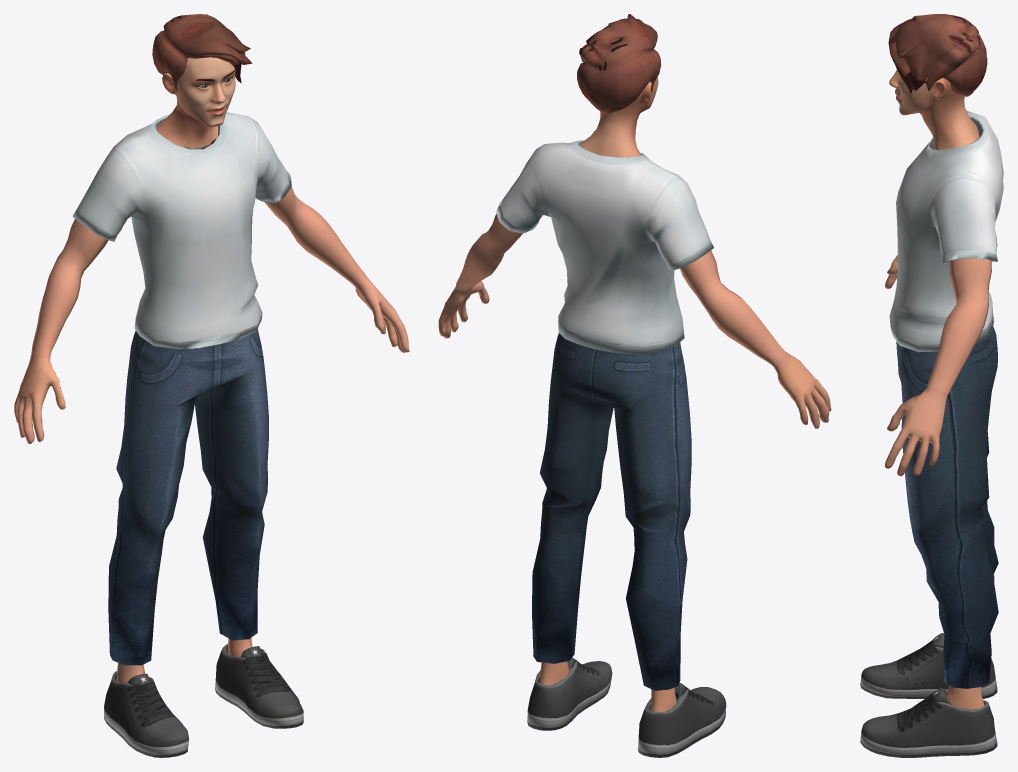
File: Skinny_Character_Base.glb
The picture shows the model from 3 angles, left to right: view 1: azimuth 30°, elevation 25°; view 2: azimuth 150°, elevation 25°; view 3: azimuth 270°, elevation 25°; orthographic projection.
Parts seen in each view (by area): view 1: Outfit_Bottom.005, Outfit_Bottom.002, Outfit_Bottom.003, Outfit_Bottom.010, Outfit_Bottom.004, Outfit_Bottom.007, Outfit_Bottom.006, Outfit_Bottom.013; view 2: Outfit_Bottom.005, Outfit_Bottom.002, Outfit_Bottom.003, Outfit_Bottom.013, Outfit_Bottom.007, Outfit_Bottom.006, Outfit_Bottom.004, Outfit_Bottom.010; view 3: Outfit_Bottom.005, Outfit_Bottom.002, Outfit_Bottom.004, Outfit_Bottom.006, Outfit_Bottom.013, Outfit_Bottom.007, Outfit_Bottom.010, Outfit_Bottom.009.
Part boxes in pixels (box(x1,y1,x2,y2)): Outfit_Bottom.005: box(108, 328, 268, 665); Outfit_Bottom.002: box(72, 112, 291, 349); Outfit_Bottom.003: box(14, 219, 108, 443); Outfit_Bottom.010: box(157, 57, 235, 148); Outfit_Bottom.004: box(264, 187, 409, 352); Outfit_Bottom.007: box(104, 671, 188, 757); Outfit_Bottom.006: box(215, 644, 303, 728); Outfit_Bottom.013: box(152, 14, 252, 91); Outfit_Bottom.005: box(532, 333, 691, 690); Outfit_Bottom.002: box(496, 140, 713, 354); Outfit_Bottom.003: box(680, 250, 831, 428); Outfit_Bottom.013: box(577, 14, 661, 114); Outfit_Bottom.007: box(638, 683, 726, 757); Outfit_Bottom.006: box(527, 657, 612, 730); Outfit_Bottom.004: box(438, 213, 522, 338); Outfit_Bottom.010: box(580, 77, 658, 157); Outfit_Bottom.005: box(896, 326, 998, 688); Outfit_Bottom.002: box(889, 111, 1003, 352); Outfit_Bottom.004: box(884, 258, 991, 476); Outfit_Bottom.006: box(860, 687, 997, 757); Outfit_Bottom.013: box(888, 14, 987, 96); Outfit_Bottom.007: box(860, 633, 997, 698); Outfit_Bottom.010: box(889, 70, 979, 150); Outfit_Bottom.009: box(946, 685, 984, 709).
Size of the model in its own units: 1.06 by 1.87 by 0.3449.
6 materials, 6 textured.
